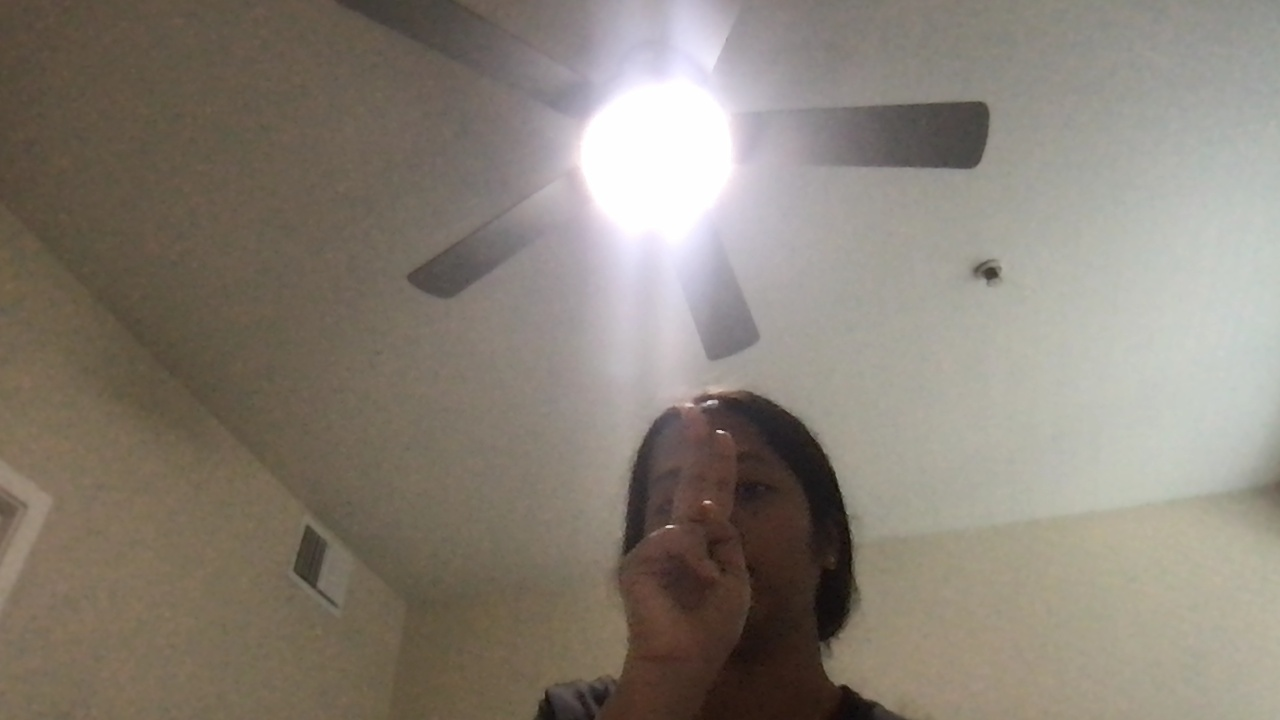k: (644, 399, 765, 668)
